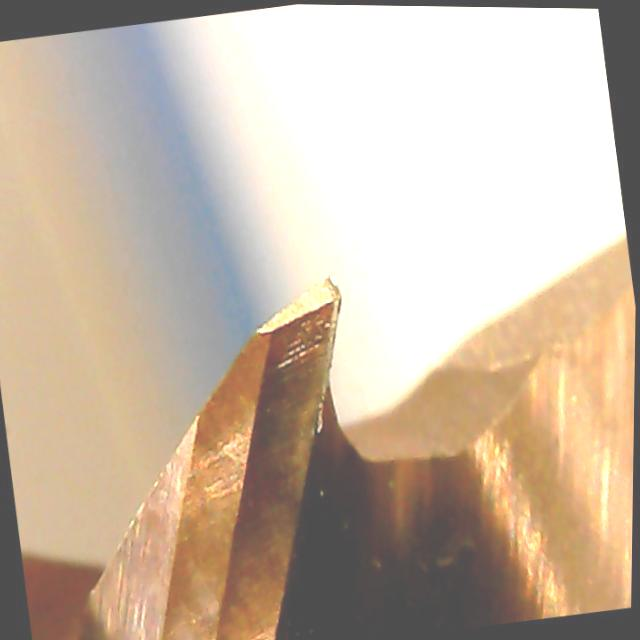Tool-wear-class-1: (187, 267, 385, 520)
